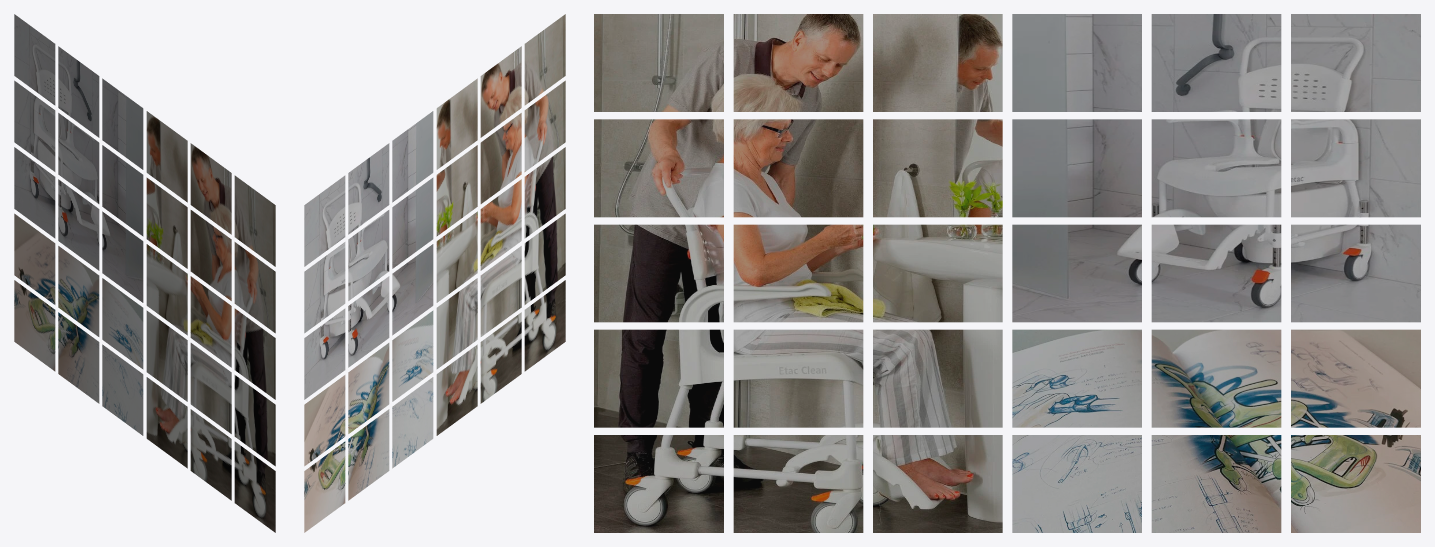
File: TV_bien_4.glb
The picture shows the model from 3 angles, left to right: view 1: azimuth 30°, elevation 25°; view 2: azimuth 150°, elevation 25°; view 3: azimuth 270°, elevation 25°; orthographic projection. The views are drawn at different scales.
Parts seen in each view (by area): view 1: 2, 1, 3; view 2: 2, 1, 3; view 3: 2, 1, 3.
Boxes of the visible parts, <box> form: 2: <box>146,111,275,532</box>; 1: <box>14,14,143,302</box>; 3: <box>14,213,143,435</box>; 2: <box>436,14,565,435</box>; 1: <box>304,111,433,399</box>; 3: <box>304,310,433,532</box>; 2: <box>594,14,1002,532</box>; 1: <box>1012,14,1420,322</box>; 3: <box>1012,329,1420,532</box>.
Bounding box in the file's own units: 1.27e-07 × 8.82 × 12.74.
Materials: 3 (3 with a texture image).
